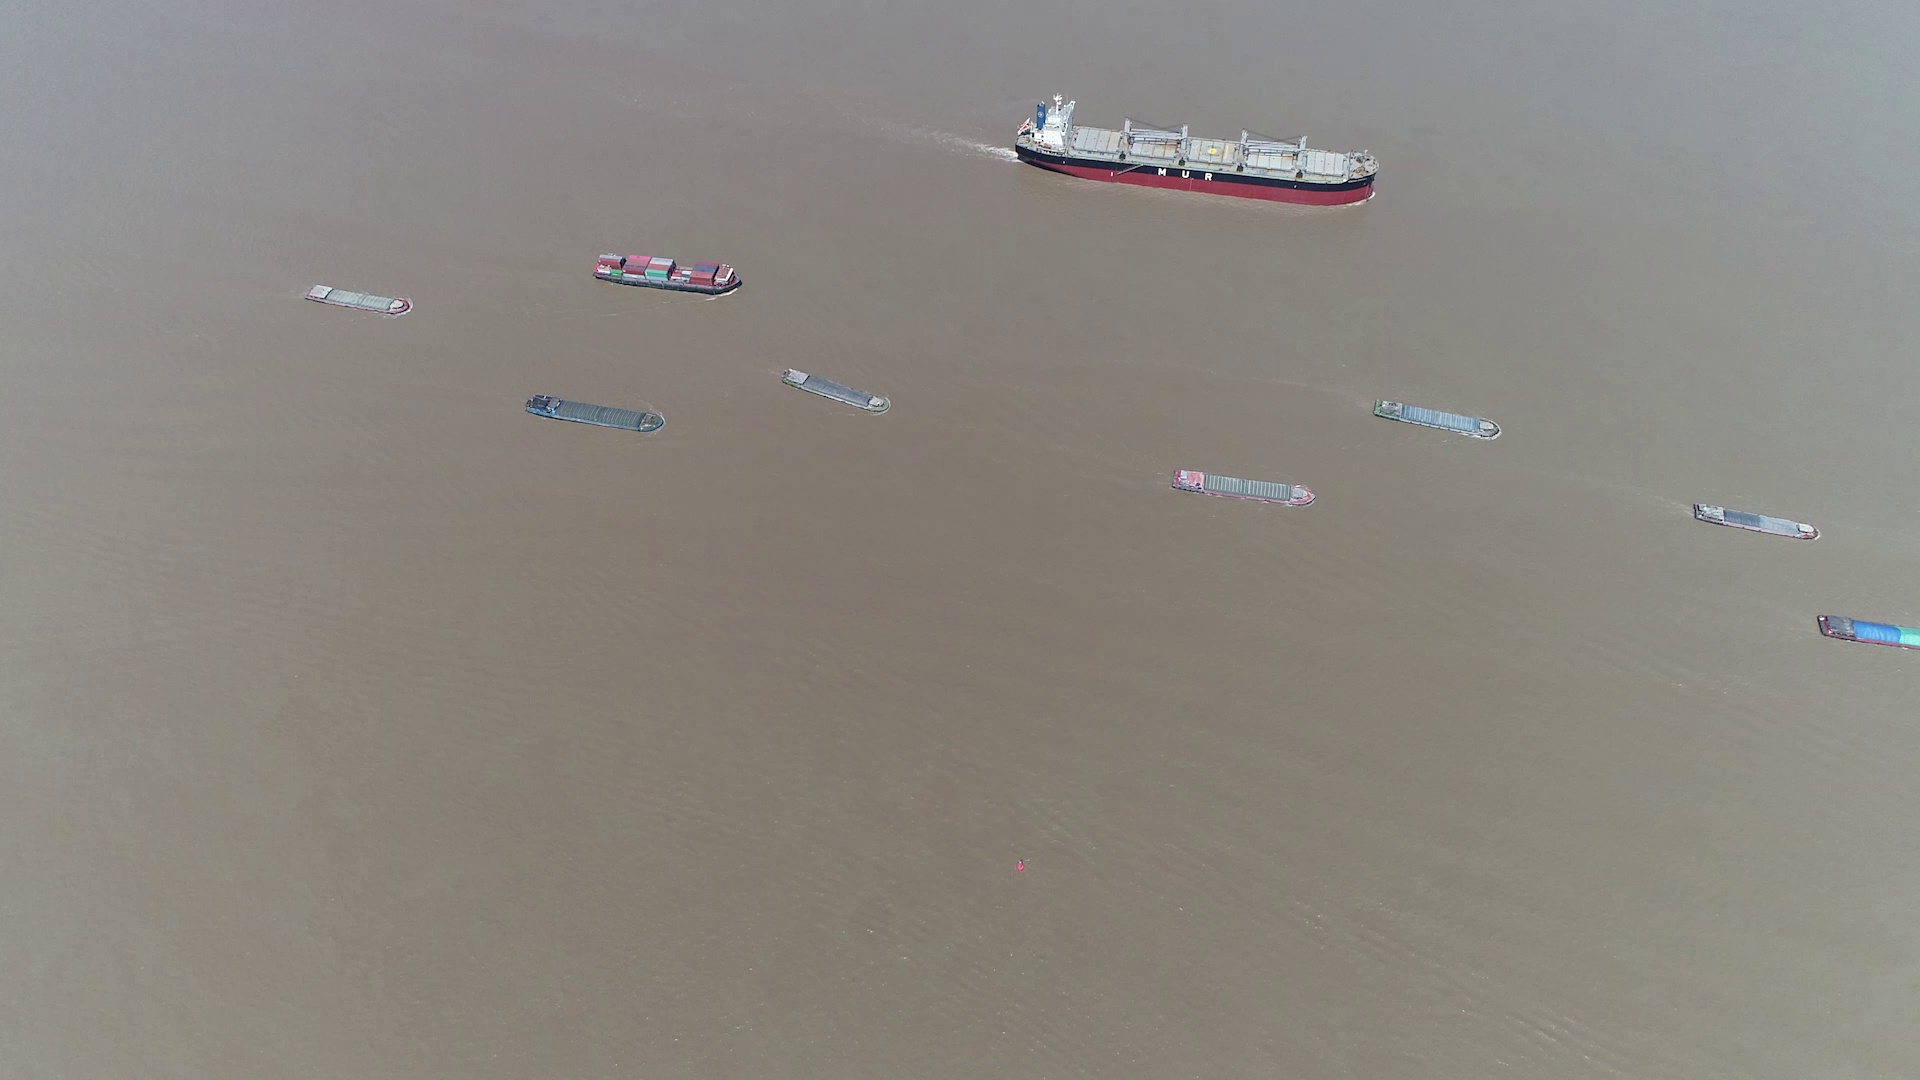ship: (1011, 98, 1375, 202), (592, 255, 741, 294), (1371, 397, 1502, 440), (1168, 469, 1316, 508), (524, 394, 665, 434), (781, 371, 894, 415), (1692, 501, 1816, 541), (1817, 612, 1919, 649), (305, 284, 413, 316)
